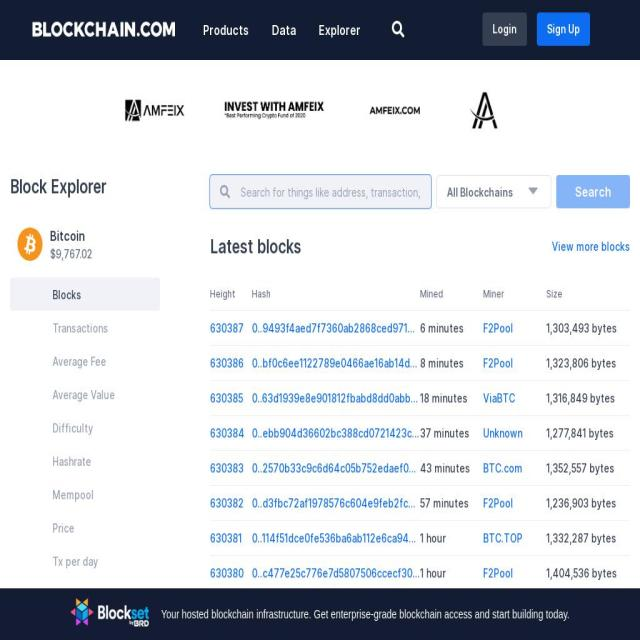button: (10, 211, 160, 277), (10, 277, 160, 311), (10, 344, 160, 378), (10, 377, 160, 411), (10, 444, 160, 478), (10, 477, 160, 511), (10, 544, 160, 578), (10, 577, 160, 611), (10, 311, 160, 344), (10, 411, 160, 444), (10, 511, 160, 544), (10, 611, 160, 640), (30, 21, 178, 39), (556, 175, 630, 208), (252, 321, 420, 335), (252, 356, 420, 370), (252, 391, 420, 405), (252, 426, 420, 440), (252, 461, 420, 475), (252, 496, 420, 510), (252, 531, 420, 545), (252, 566, 420, 580), (252, 601, 420, 615), (537, 12, 590, 46), (537, 12, 590, 46), (482, 12, 527, 46), (482, 12, 527, 46), (552, 239, 630, 253), (482, 321, 546, 335), (482, 356, 546, 370), (482, 391, 546, 405), (482, 426, 546, 440), (482, 461, 546, 475), (482, 496, 546, 510), (482, 531, 546, 545), (482, 566, 546, 580), (482, 601, 546, 615), (252, 636, 420, 640), (210, 321, 252, 335), (210, 356, 252, 370), (210, 391, 252, 405), (210, 426, 252, 440), (210, 461, 252, 475), (210, 496, 252, 510), (210, 531, 252, 545), (210, 566, 252, 580), (210, 601, 252, 615), (482, 636, 546, 640), (210, 636, 252, 640)
field: (210, 175, 431, 208)
iframe: (92, 74, 548, 148), (0, 588, 640, 640)
image: (30, 21, 178, 37), (18, 227, 42, 261), (383, 21, 414, 37), (17, 627, 42, 640), (526, 180, 540, 200), (220, 185, 230, 198)
text: (10, 175, 107, 197), (210, 235, 301, 257), (52, 286, 128, 302), (52, 386, 128, 402), (52, 486, 128, 502), (52, 586, 128, 602), (546, 321, 630, 335), (546, 356, 630, 370), (546, 391, 630, 405), (546, 426, 630, 440), (546, 461, 630, 475), (546, 496, 630, 510), (546, 531, 630, 545), (546, 566, 630, 580), (546, 601, 630, 615), (52, 320, 128, 335), (52, 420, 128, 435), (52, 520, 128, 535), (52, 354, 128, 368), (52, 454, 128, 468), (52, 554, 128, 568), (447, 184, 513, 199), (419, 321, 483, 335), (419, 356, 483, 370), (419, 391, 483, 405), (419, 426, 483, 440), (419, 461, 483, 475), (419, 496, 483, 510), (419, 531, 483, 545), (419, 566, 483, 580), (419, 601, 483, 615), (203, 22, 252, 38), (318, 22, 364, 38), (50, 626, 99, 640), (50, 246, 92, 262), (50, 227, 85, 244), (272, 22, 300, 38), (546, 636, 630, 640), (210, 288, 236, 300), (420, 288, 443, 300), (482, 288, 504, 300), (419, 636, 483, 640), (252, 288, 271, 300), (546, 288, 562, 300)
